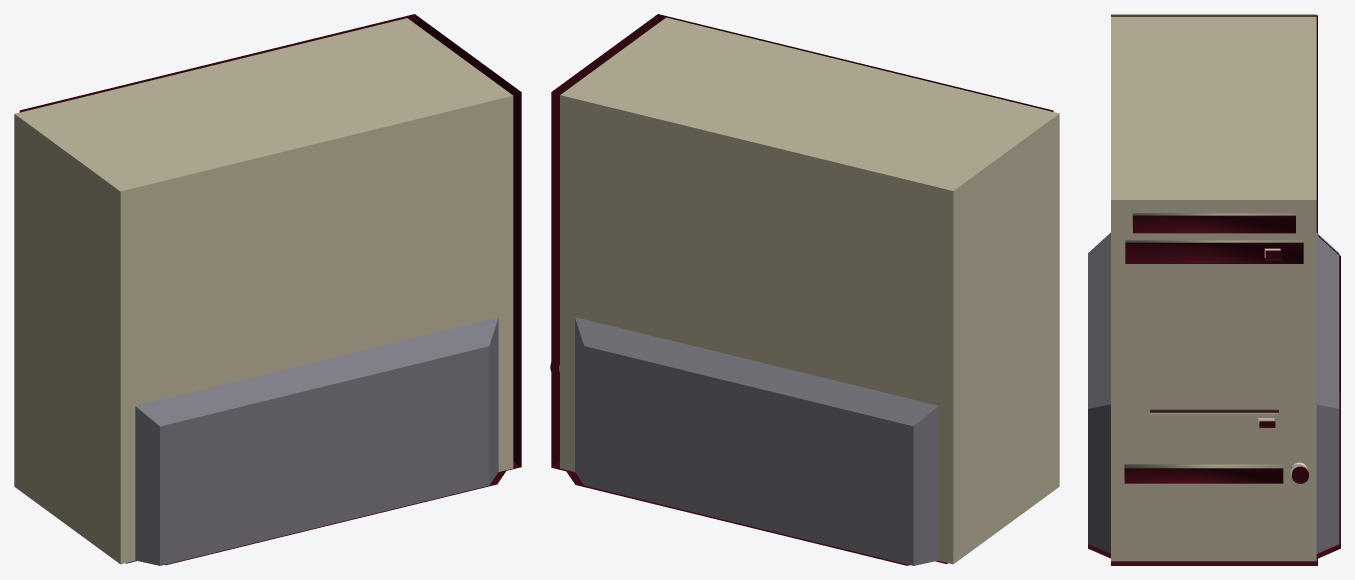
The model's file is 90scomputertower_outlinetest.fbx.
3 views of the same model, side by side, from view 1: azimuth 30°, elevation 25°; view 2: azimuth 150°, elevation 25°; view 3: azimuth 270°, elevation 25° (orthographic). The views are drawn at different scales.
Visible parts, largest first — view 1: 90scomputertower_modelingfbx, 90scomputertower_OUTLINE; view 2: 90scomputertower_modelingfbx, 90scomputertower_OUTLINE; view 3: 90scomputertower_modelingfbx, 90scomputertower_OUTLINE.
Boxes of the visible parts, bbox=[...] form: 90scomputertower_modelingfbx: bbox=[14, 18, 513, 565]; 90scomputertower_OUTLINE: bbox=[19, 14, 521, 565]; 90scomputertower_modelingfbx: bbox=[559, 17, 1059, 565]; 90scomputertower_OUTLINE: bbox=[550, 14, 1053, 565]; 90scomputertower_modelingfbx: bbox=[1088, 14, 1339, 561]; 90scomputertower_OUTLINE: bbox=[1088, 15, 1340, 565].
Bounding box in the file's own units: 1695 × 1490 × 939.
